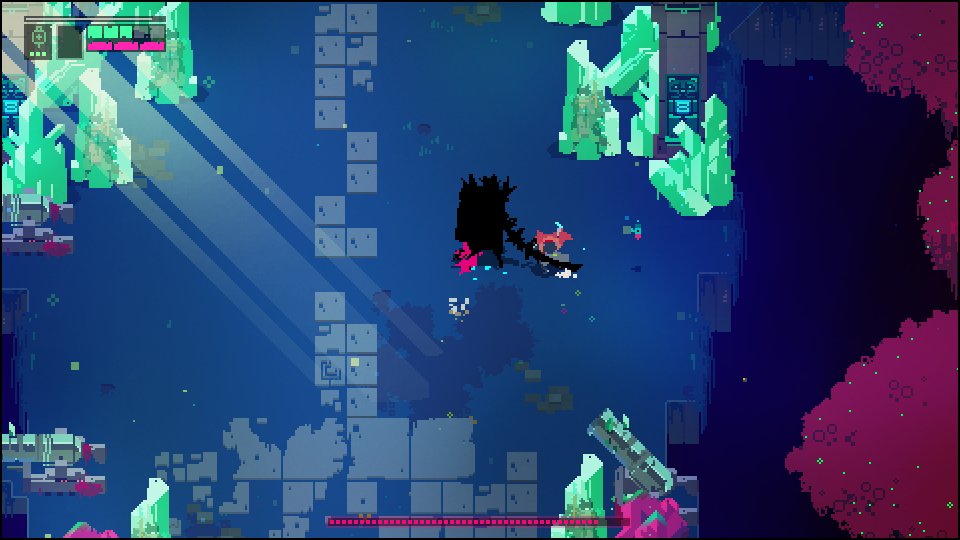hanged_man: (451, 167, 541, 277)
player: (531, 218, 571, 258)
